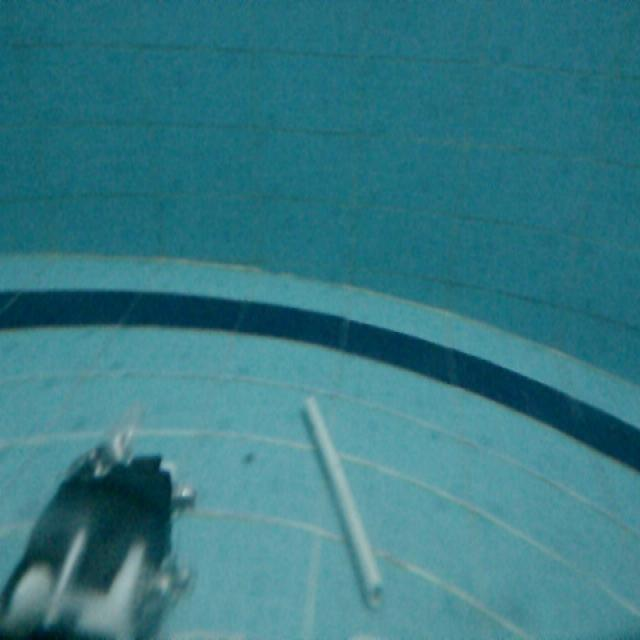Cube: (300, 392, 386, 614)
